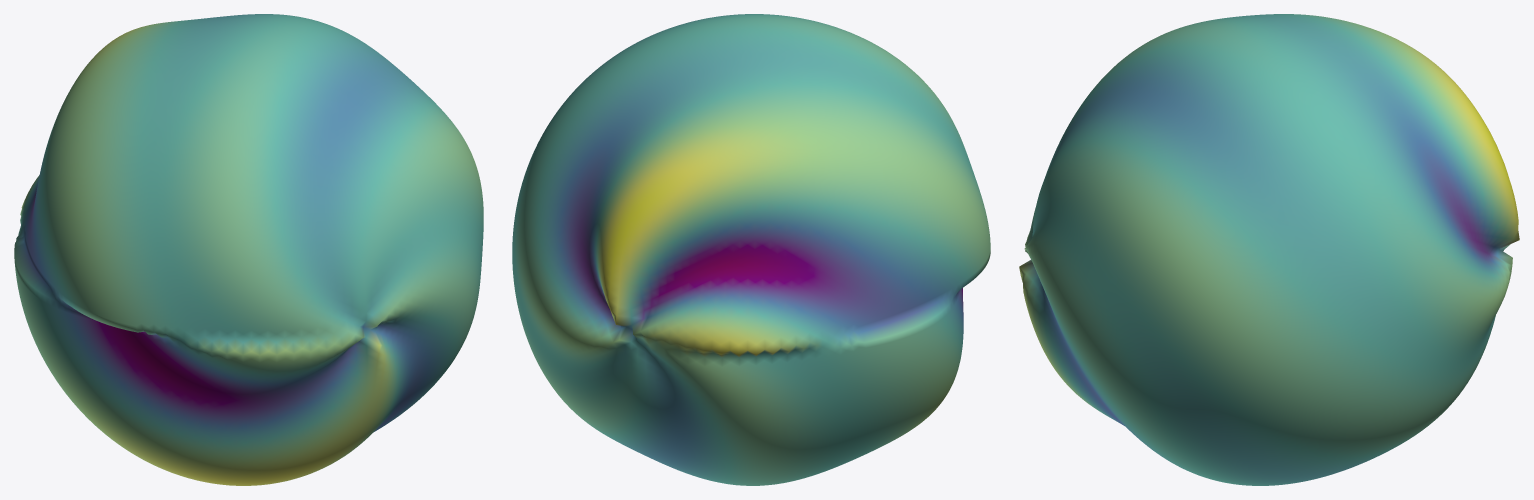
File: sphere_frame_0011.glb
3 views of the same model, side by side, from view 1: azimuth 30°, elevation 25°; view 2: azimuth 150°, elevation 25°; view 3: azimuth 270°, elevation 25° (orthographic).
Visible parts, largest first — view 1: world; view 2: world; view 3: world.
Part boxes in pixels (x1,y1,x2,y2): world: (14, 14, 483, 485); world: (512, 14, 990, 485); world: (1019, 14, 1519, 485).
Size of the model in its own units: 2.17 by 2.15 by 2.27.
